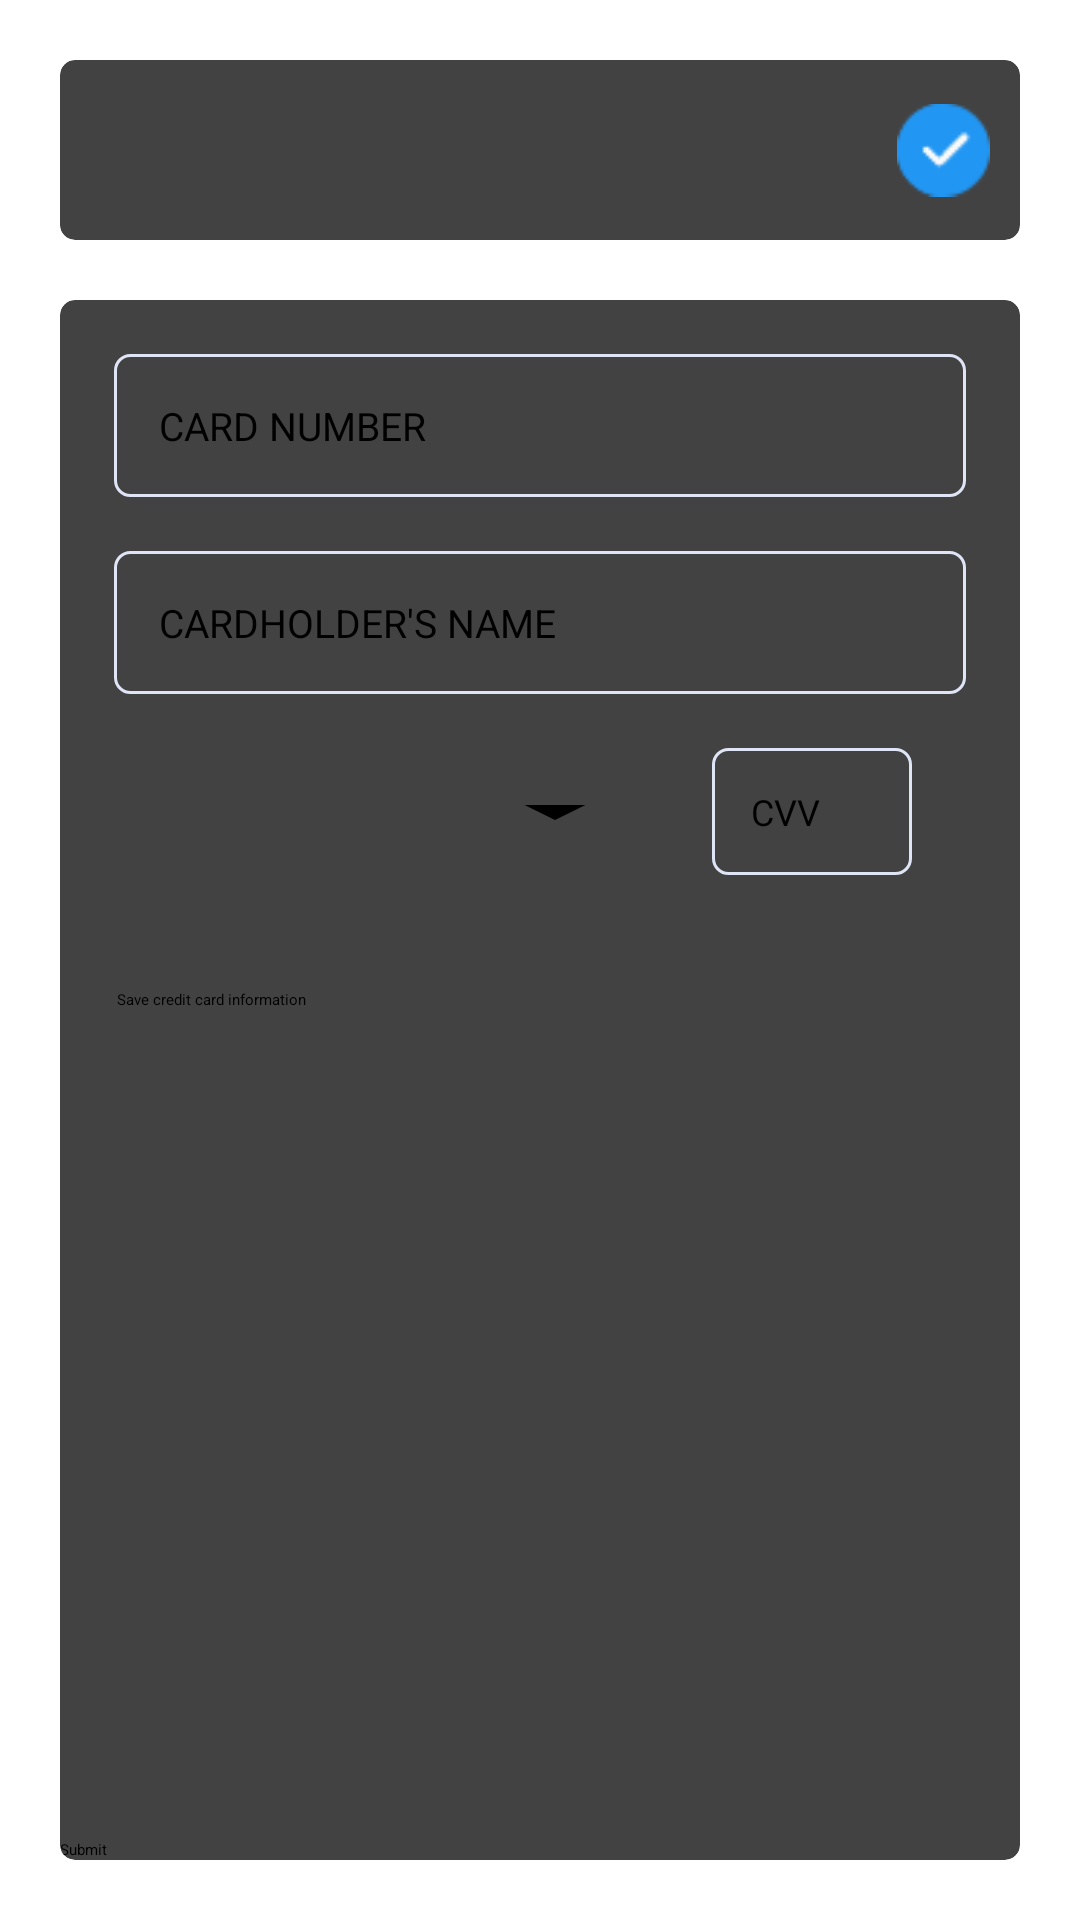

Icon bounding boxes for this 1080x1920 phone screenshot, format (x1, y1, x2, y2):
cocher: (897, 104, 990, 197)
